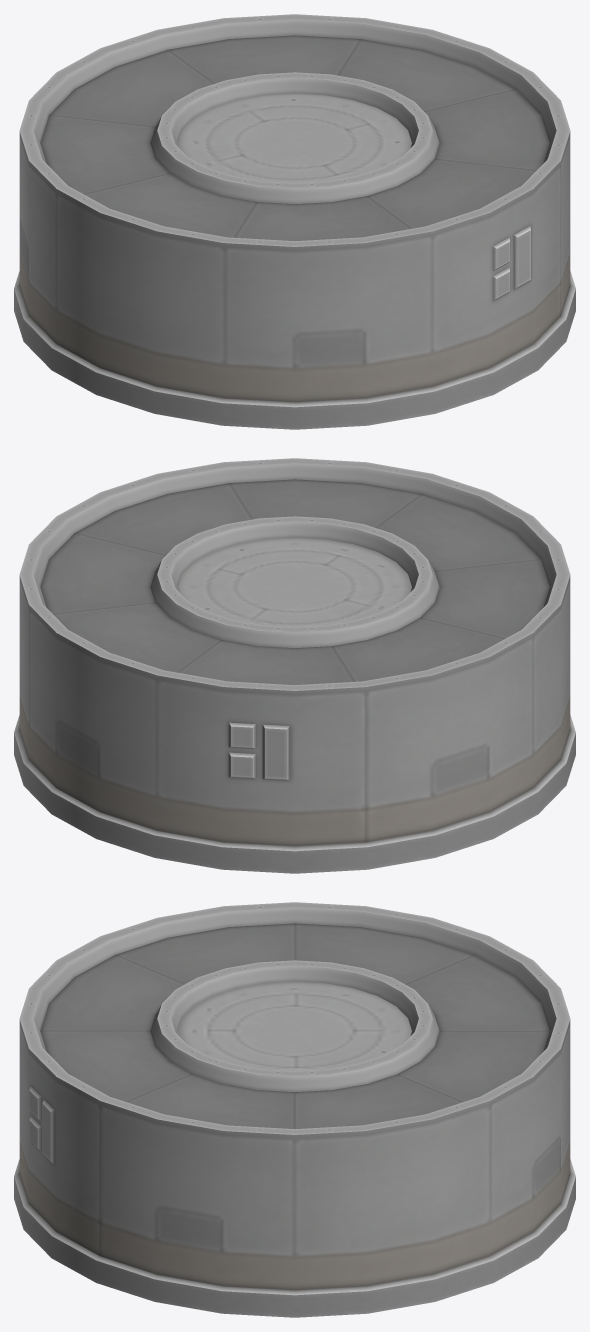
Rendered from ALV_3_Engine_1.obj.
3 renders of one model, top to bottom at view 1: azimuth 30°, elevation 25°; view 2: azimuth 150°, elevation 25°; view 3: azimuth 270°, elevation 25°, orthographic.
Parts seen in each view (by area): view 1: ALV_3_Engine_1; view 2: ALV_3_Engine_1; view 3: ALV_3_Engine_1.
Boxes of the visible parts, x1,y1,x2,y2 form: ALV_3_Engine_1: [14, 14, 575, 429]; ALV_3_Engine_1: [14, 458, 575, 873]; ALV_3_Engine_1: [14, 902, 575, 1317].
Size of the model in its own units: 2.55 by 0.9035 by 2.55.
